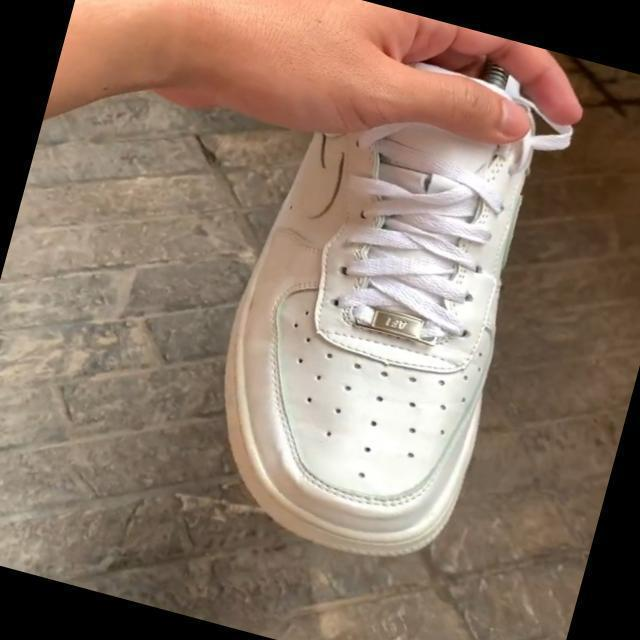nike fake air force: (180, 0, 587, 577)
